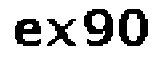0: (118, 6, 152, 50)
9: (80, 6, 115, 48)
e: (13, 17, 44, 49)
x: (46, 17, 77, 51)
